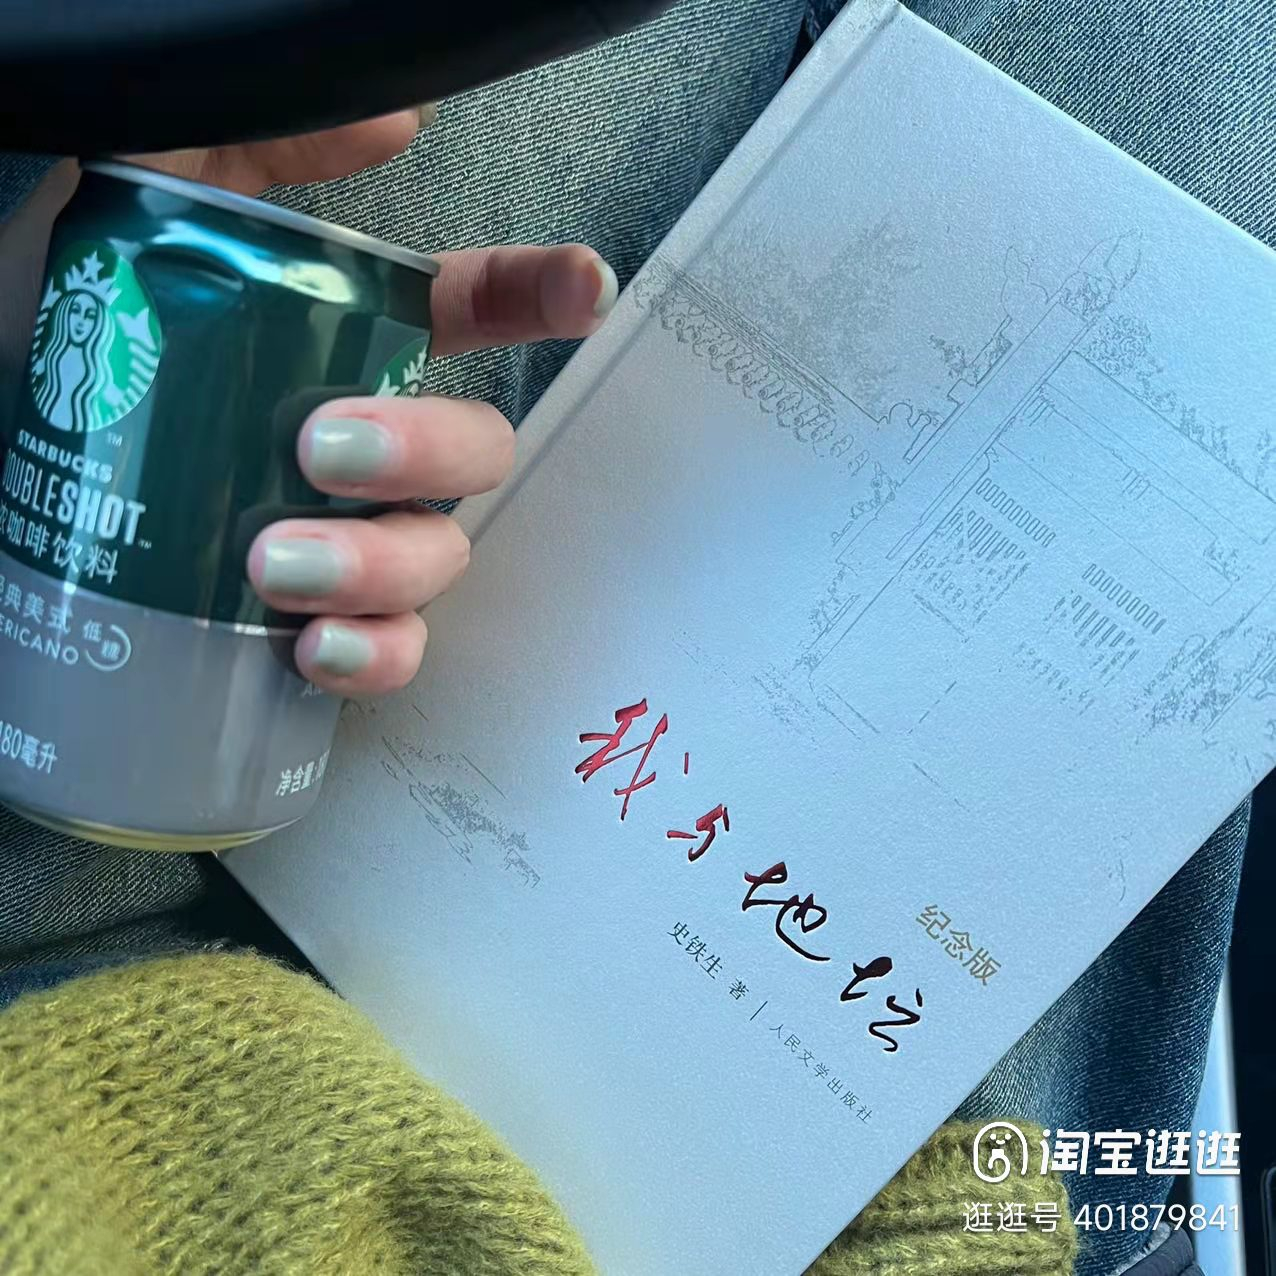book: (192, 0, 1276, 1276)
